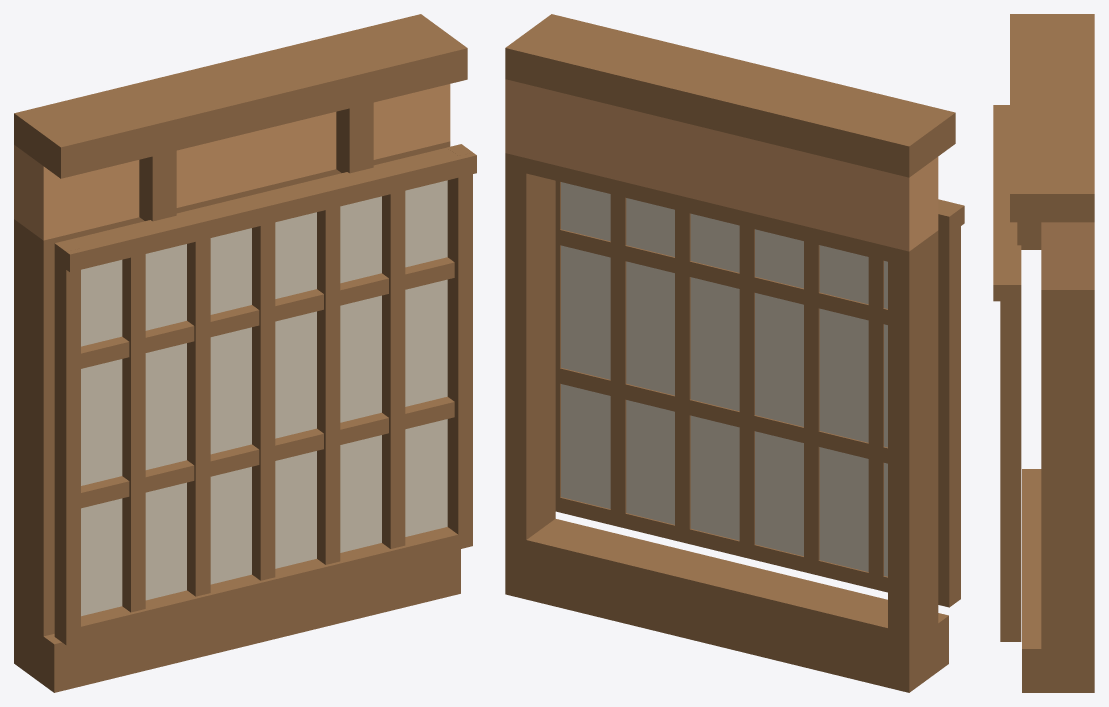
The model's file is wall_door.glb.
3 views of the same model, side by side, from view 1: azimuth 30°, elevation 25°; view 2: azimuth 150°, elevation 25°; view 3: azimuth 270°, elevation 25° (orthographic). The views are drawn at different scales.
Visible parts, largest first — view 1: Door; view 2: Door; view 3: Door.
Part boxes in pixels (<box>): Door: <box>14,14,476,692</box>; Door: <box>505,14,964,692</box>; Door: <box>993,14,1094,692</box>.
Size of the model in its own units: 4 by 5.17 by 0.9506.
Materials: 2 (1 with a texture image).
